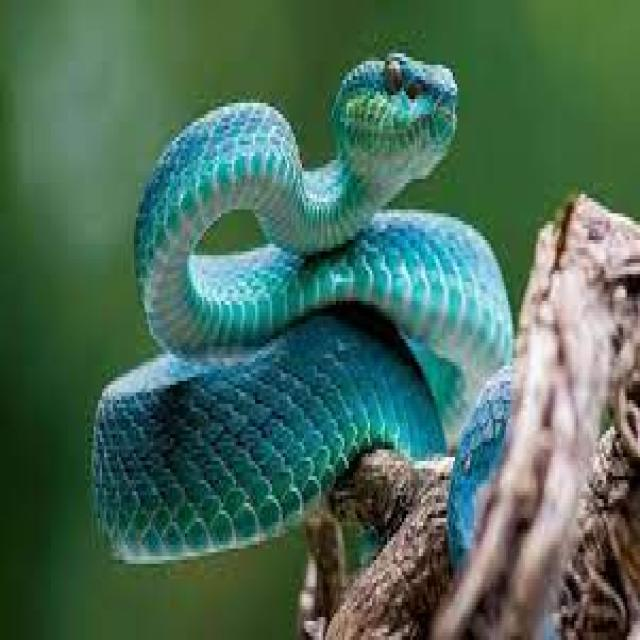Carnivorous: (94, 50, 515, 564)
